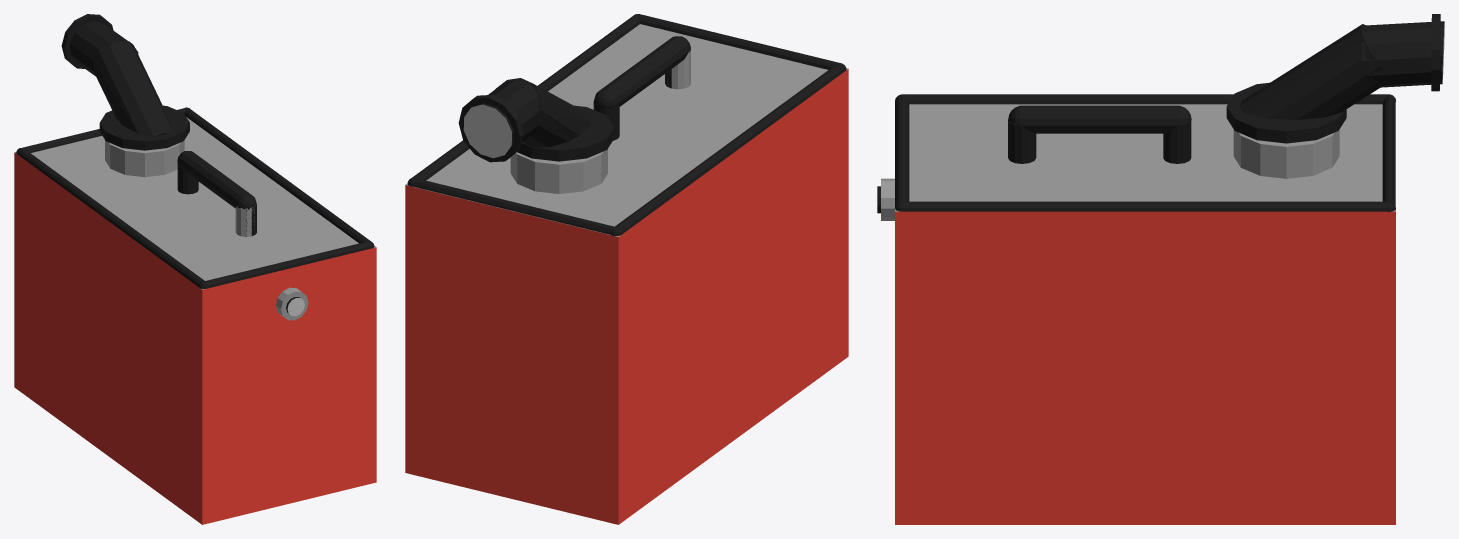
3 views of the same model, side by side, from view 1: azimuth 30°, elevation 25°; view 2: azimuth 150°, elevation 25°; view 3: azimuth 270°, elevation 25° (orthographic). The views are drawn at different scales.
Visible parts, largest first — view 1: mesh_1903471170, group_1444297041, group_1660198133, group_1329202697, mesh_885354248, mesh_671710349, mesh_1310635017, group_1783365167, mesh_1164145981; view 2: mesh_1903471170, group_1444297041, group_1660198133, group_1329202697, mesh_885354248, mesh_1310635017, mesh_671710349, mesh_1164145981; view 3: mesh_1903471170, group_1444297041, group_1329202697, group_1660198133, mesh_671710349, mesh_885354248, mesh_1310635017, mesh_1164145981, group_1783365167.
Part boxes in pixels (bbox=[...]): mesh_1903471170: bbox=[14, 117, 376, 524]; group_1444297041: bbox=[61, 14, 172, 136]; group_1660198133: bbox=[99, 105, 189, 177]; group_1329202697: bbox=[177, 151, 256, 236]; mesh_885354248: bbox=[17, 148, 204, 286]; mesh_671710349: bbox=[184, 108, 372, 243]; mesh_1310635017: bbox=[204, 241, 371, 288]; group_1783365167: bbox=[275, 287, 308, 320]; mesh_1164145981: bbox=[22, 108, 186, 152]; mesh_1903471170: bbox=[405, 24, 848, 524]; group_1444297041: bbox=[458, 78, 591, 162]; group_1660198133: bbox=[510, 105, 614, 193]; group_1329202697: bbox=[593, 36, 690, 140]; mesh_885354248: bbox=[615, 64, 844, 233]; mesh_1310635017: bbox=[638, 14, 840, 69]; mesh_671710349: bbox=[412, 14, 639, 180]; mesh_1164145981: bbox=[413, 178, 615, 234]; mesh_1903471170: bbox=[895, 98, 1395, 524]; group_1444297041: bbox=[1240, 14, 1444, 119]; group_1329202697: bbox=[1008, 105, 1191, 163]; group_1660198133: bbox=[1226, 82, 1346, 178]; mesh_671710349: bbox=[902, 201, 1388, 211]; mesh_885354248: bbox=[902, 94, 1388, 104]; mesh_1310635017: bbox=[895, 95, 909, 208]; mesh_1164145981: bbox=[1382, 95, 1395, 204]; group_1783365167: bbox=[877, 178, 894, 220].
Size of the model in its own units: 38.03 by 70.71 by 80.46.
